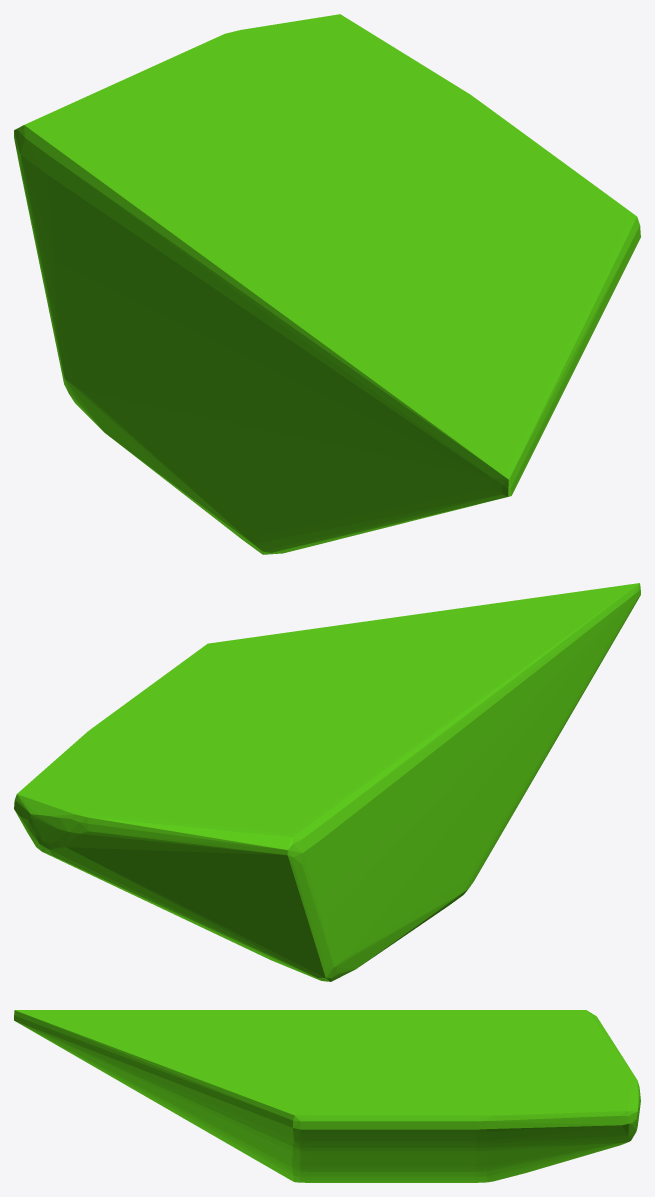
Rendered from right-hip-pitch-0_part_17.obj.
3 renders of one model, top to bottom at view 1: azimuth 30°, elevation 25°; view 2: azimuth 150°, elevation 25°; view 3: azimuth 270°, elevation 25°, orthographic. The views are drawn at different scales.
Size of the model in its own units: 0.0563 by 0.0363 by 0.1368.
